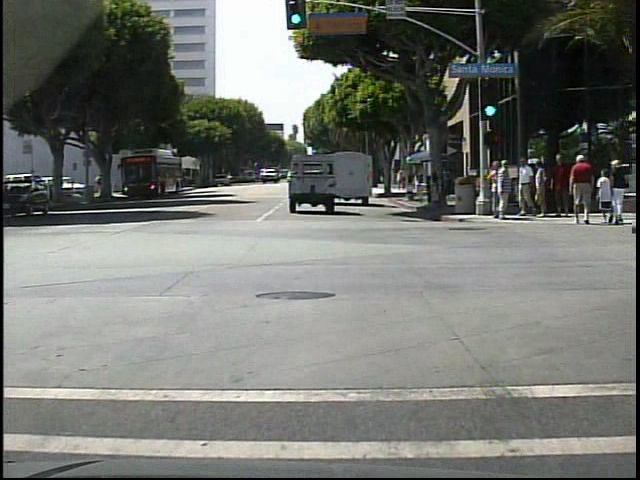person: (569, 153, 595, 231), (553, 151, 575, 220), (609, 161, 629, 226), (518, 158, 538, 218), (596, 165, 616, 224), (496, 159, 513, 223), (533, 162, 550, 221), (490, 162, 502, 220), (100, 176, 111, 201), (95, 174, 104, 198), (396, 170, 404, 193)
